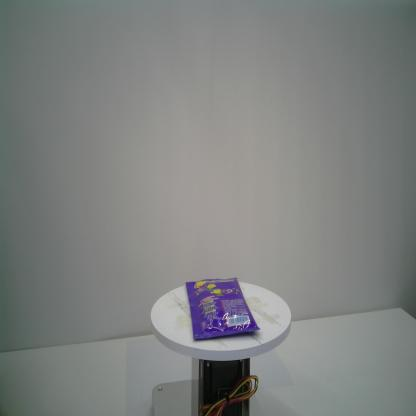Candy: (182, 274, 262, 344)
